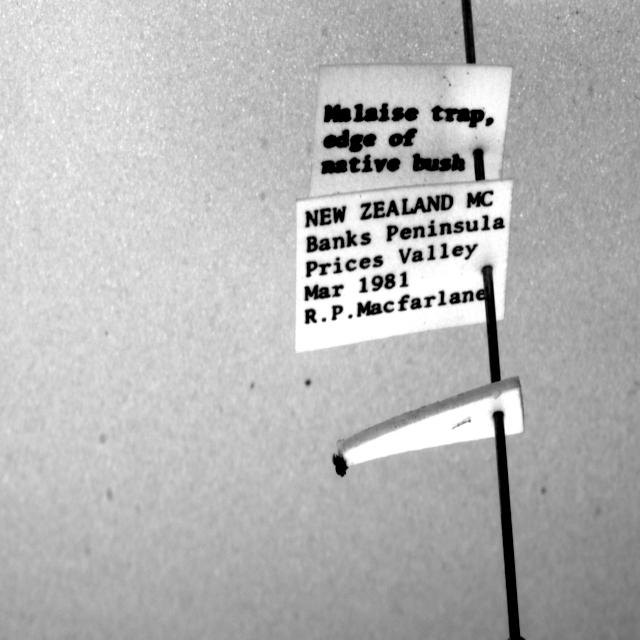typed_label: (295, 180, 512, 352), (310, 64, 512, 197)
